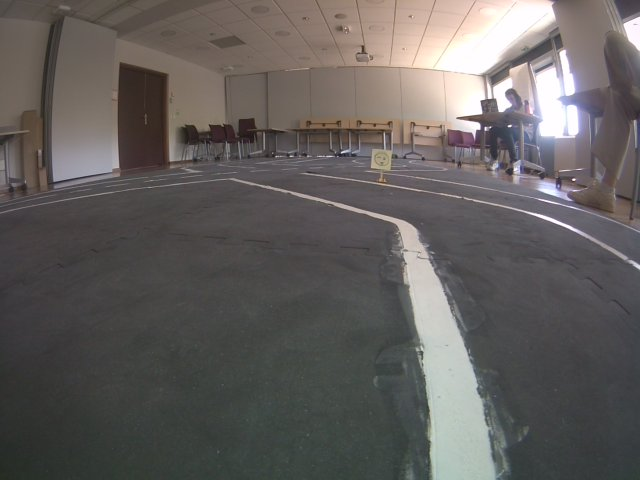Smiley: (368, 148, 393, 171)
